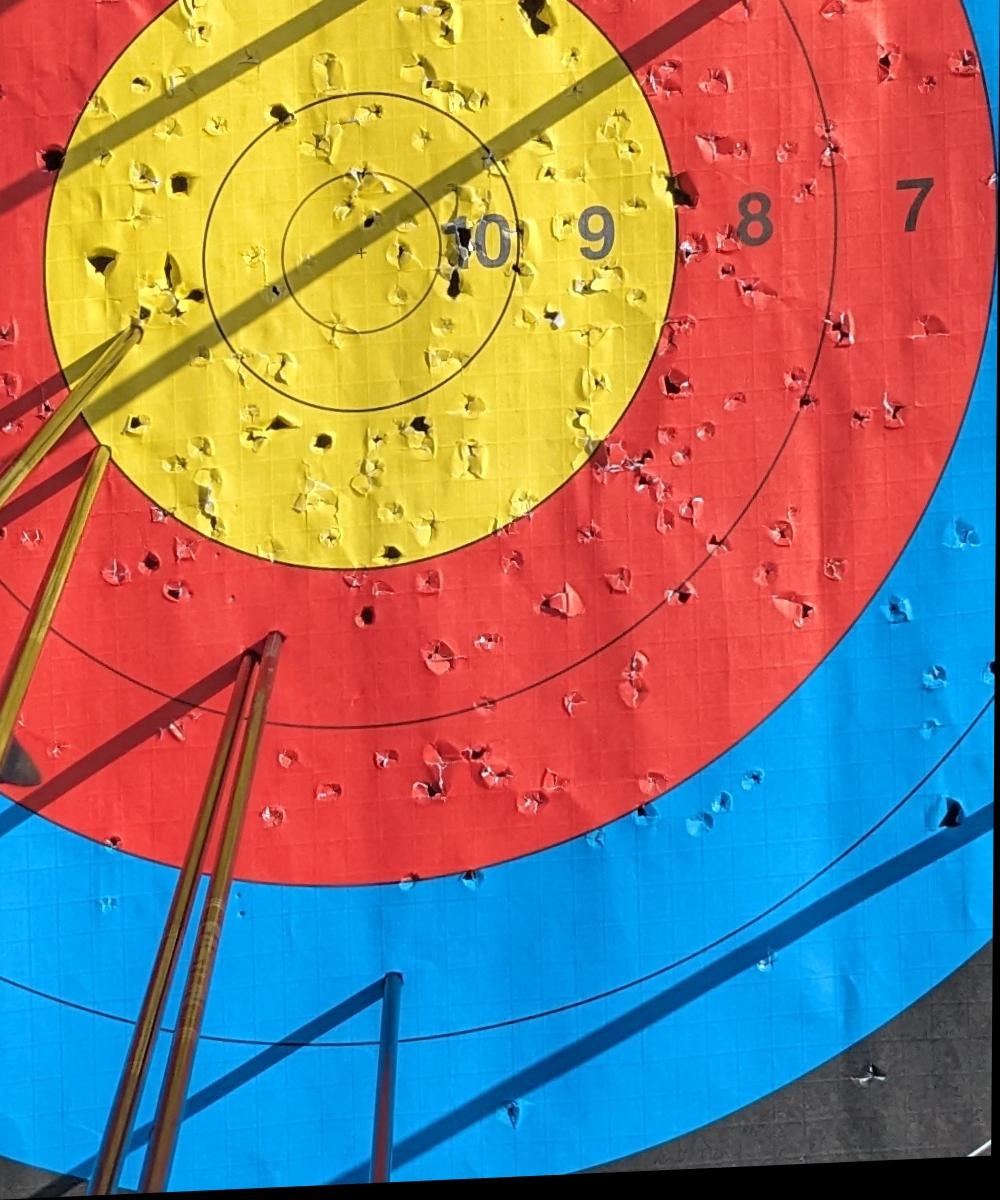10-Ring: (173, 64, 551, 450)
9-Ring: (43, 0, 675, 572)
Arrow: (91, 652, 264, 1200), (138, 628, 286, 1200), (0, 438, 112, 792), (0, 320, 145, 509)
